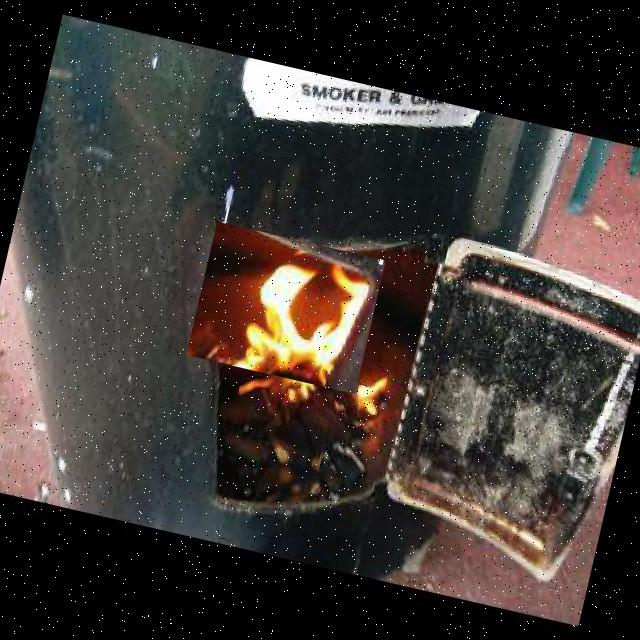fire: (186, 222, 385, 394)
